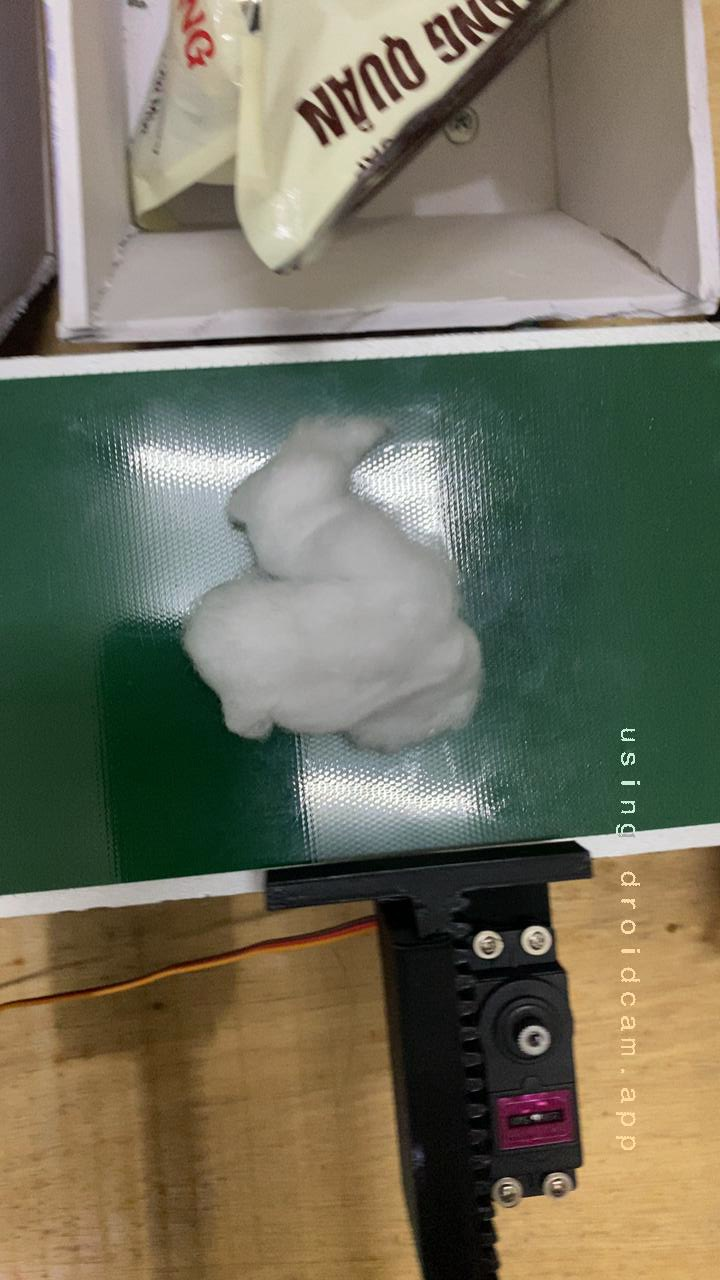cotton: (154, 383, 525, 769)
